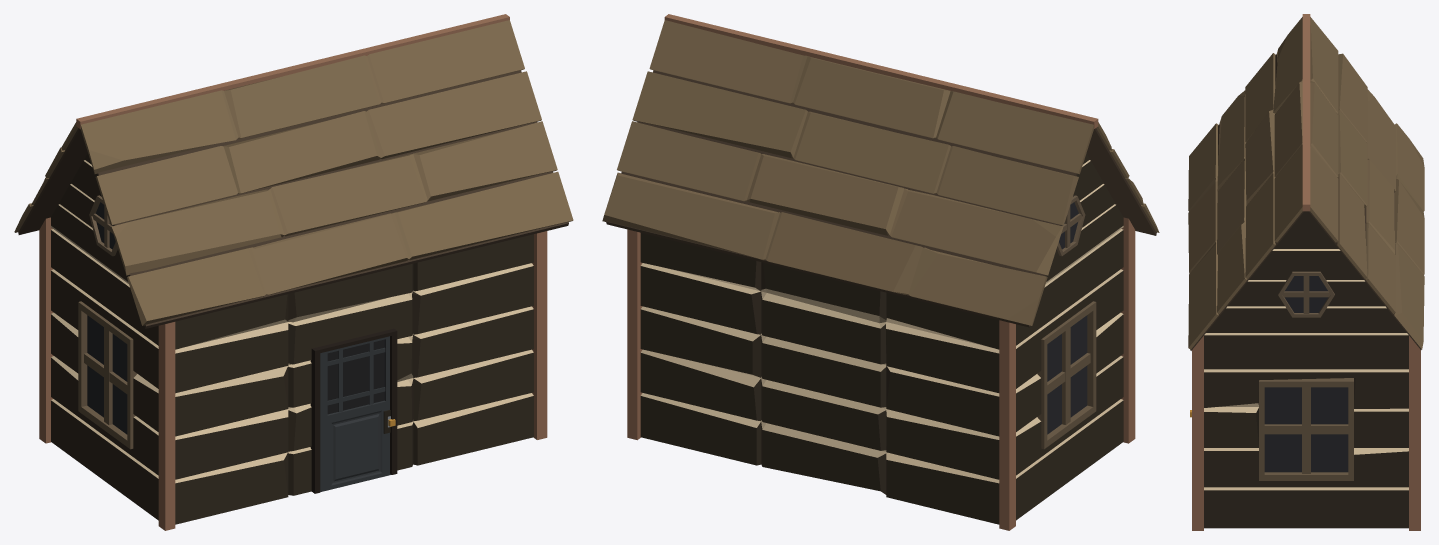
File: SM_House_01_B.gltf
3 renders of one model, left to right at view 1: azimuth 30°, elevation 25°; view 2: azimuth 150°, elevation 25°; view 3: azimuth 270°, elevation 25°, orthographic. The views are drawn at different scales.
Parts seen in each view (by area): view 1: House_01_B, HouseDoor_01_B; view 2: House_01_B; view 3: House_01_B.
Part boxes in pixels (x1,y1,x2,y2): House_01_B: (14,14,573,530); HouseDoor_01_B: (320,336,395,491); House_01_B: (602,14,1159,530); House_01_B: (1188,14,1424,530).
Bounding box in the file's own units: 2.08 × 1.72 × 1.09.
